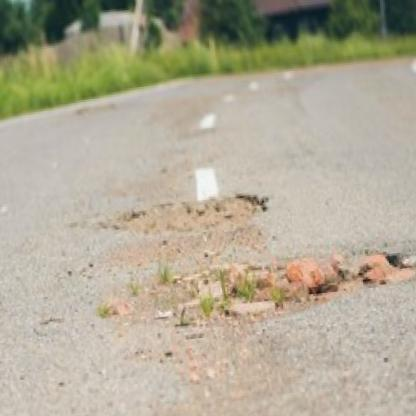pothole: (98, 238, 416, 334), (95, 188, 269, 245)
